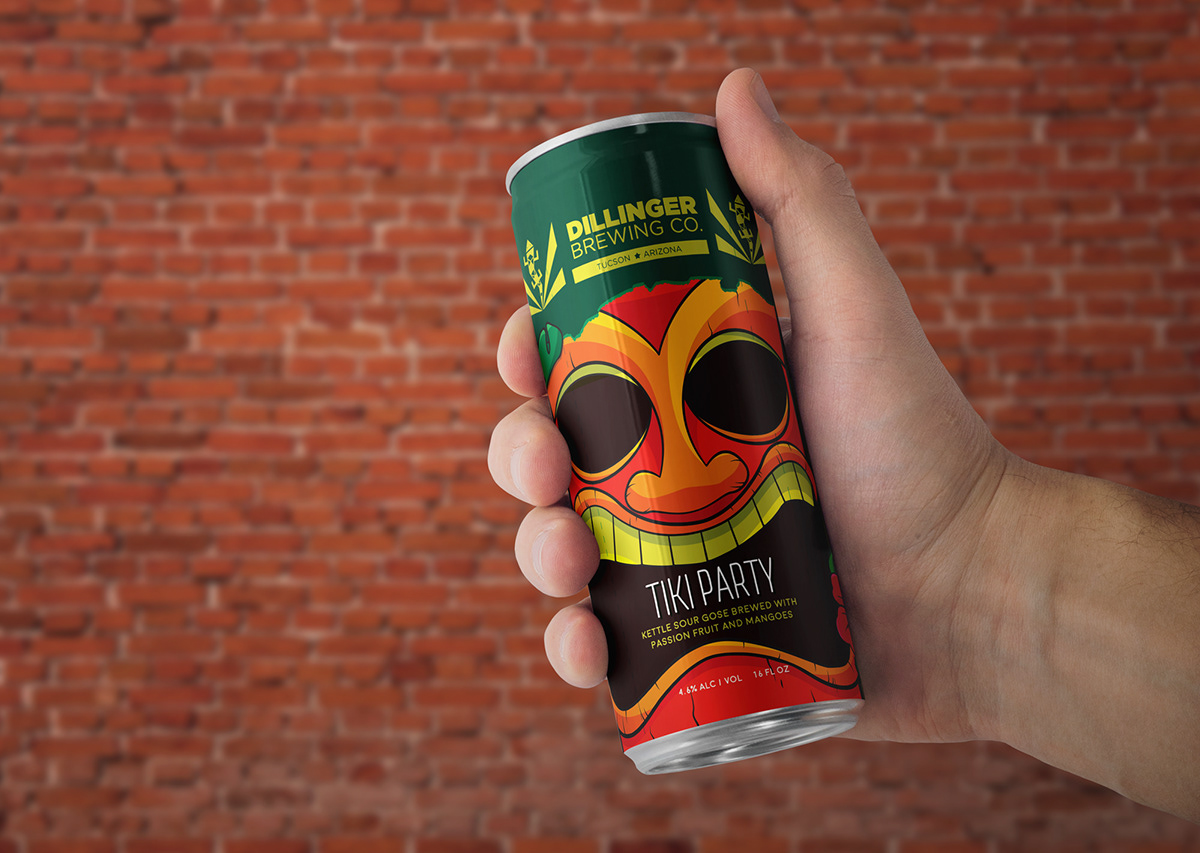can: (504, 110, 867, 777)
